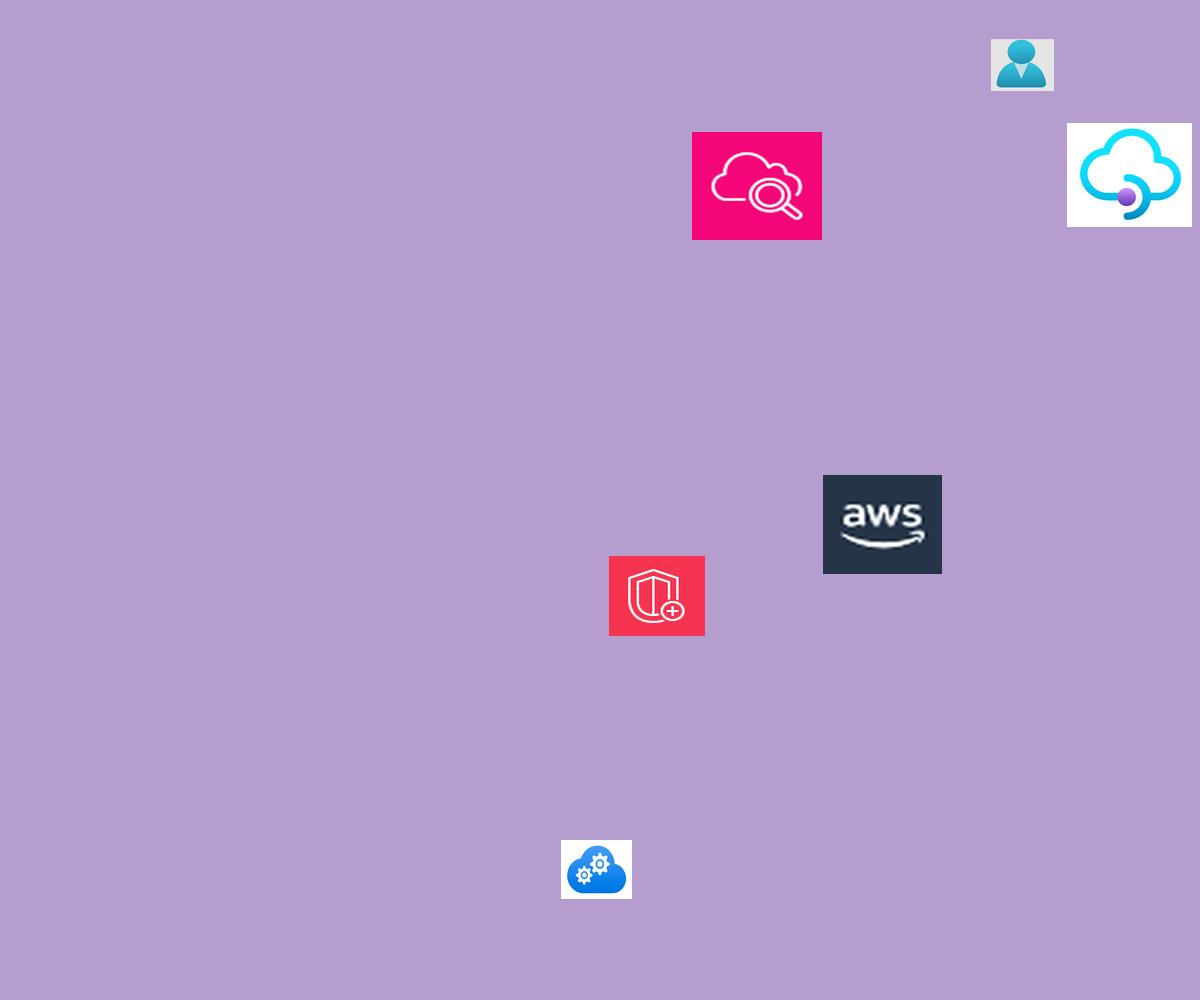AWS-Cloud-logo: (823, 475, 942, 574)
AWS-CloudWatch: (692, 132, 822, 240)
AWS-Shield: (609, 556, 705, 636)
Azure_api_gateway: (1067, 123, 1192, 227)
Azure_cloud_services: (561, 840, 632, 899)
Azure_users: (991, 39, 1054, 91)
